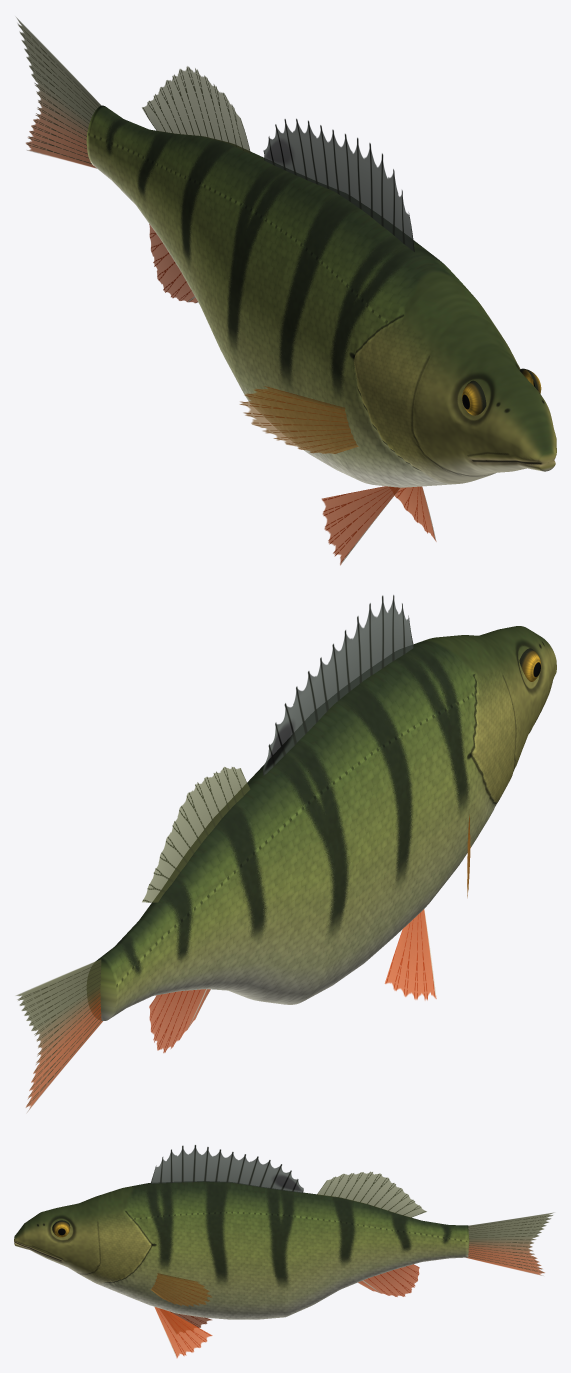
The model's file is okon.glb.
The picture shows the model from 3 angles, top to bottom: view 1: azimuth 30°, elevation 25°; view 2: azimuth 150°, elevation 25°; view 3: azimuth 270°, elevation 25°; orthographic projection. The views are drawn at different scales.
Parts seen in each view (by area): view 1: Body, FinDorsal1, FinCaudal, FinDorsal2, FinPectoral, FinPelvic, FinAnal; view 2: Body, FinDorsal1, FinCaudal, FinDorsal2, FinPelvic, FinAnal; view 3: Body, FinDorsal1, FinCaudal, FinDorsal2, FinPelvic, FinPectoral, FinAnal.
Part boxes in pixels (x1=…): Body: x1=86, y1=105, x2=556, y2=487; FinDorsal1: x1=263, y1=118, x2=414, y2=251; FinCaudal: x1=16, y1=17, x2=101, y2=168; FinDorsal2: x1=142, y1=66, x2=250, y2=153; FinPectoral: x1=239, y1=386, x2=358, y2=453; FinPelvic: x1=322, y1=486, x2=436, y2=565; FinAnal: x1=149, y1=224, x2=197, y2=303; Body: x1=87, y1=626, x2=556, y2=1020; FinDorsal1: x1=263, y1=595, x2=413, y2=775; FinCaudal: x1=16, y1=959, x2=102, y2=1112; FinDorsal2: x1=142, y1=767, x2=250, y2=902; FinPelvic: x1=385, y1=909, x2=436, y2=1000; FinAnal: x1=149, y1=989, x2=210, y2=1052; Body: x1=14, y1=1181, x2=469, y2=1319; FinDorsal1: x1=150, y1=1145, x2=303, y2=1192; FinCaudal: x1=466, y1=1212, x2=553, y2=1275; FinDorsal2: x1=317, y1=1171, x2=426, y2=1217; FinPelvic: x1=154, y1=1307, x2=212, y2=1357; FinPectoral: x1=151, y1=1273, x2=211, y2=1306; FinAnal: x1=358, y1=1264, x2=419, y2=1296.
Bounding box in the file's own units: 0.2468 × 0.4099 × 0.997.
Materials: 8 (8 with a texture image).
